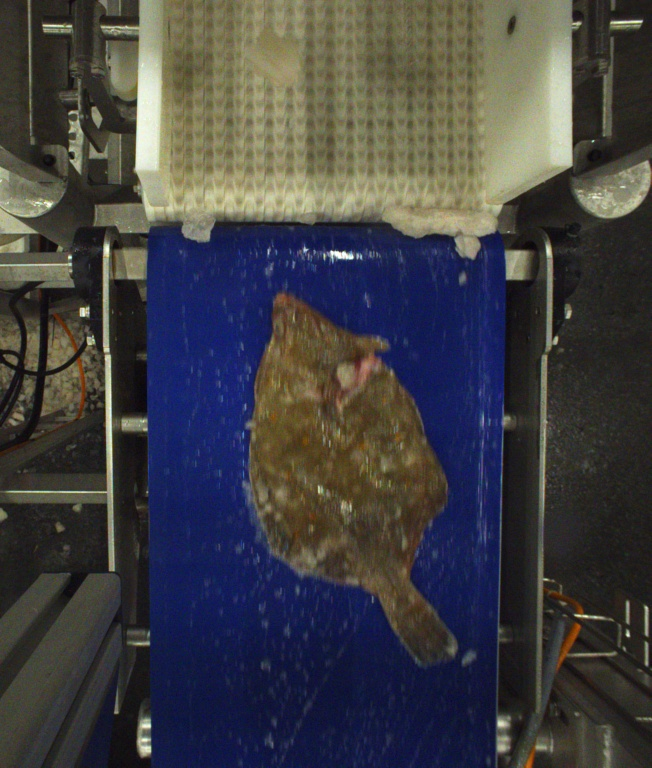PLE: (246, 293, 460, 674)
